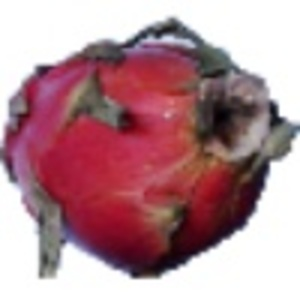pitaia: (1, 17, 300, 280)
